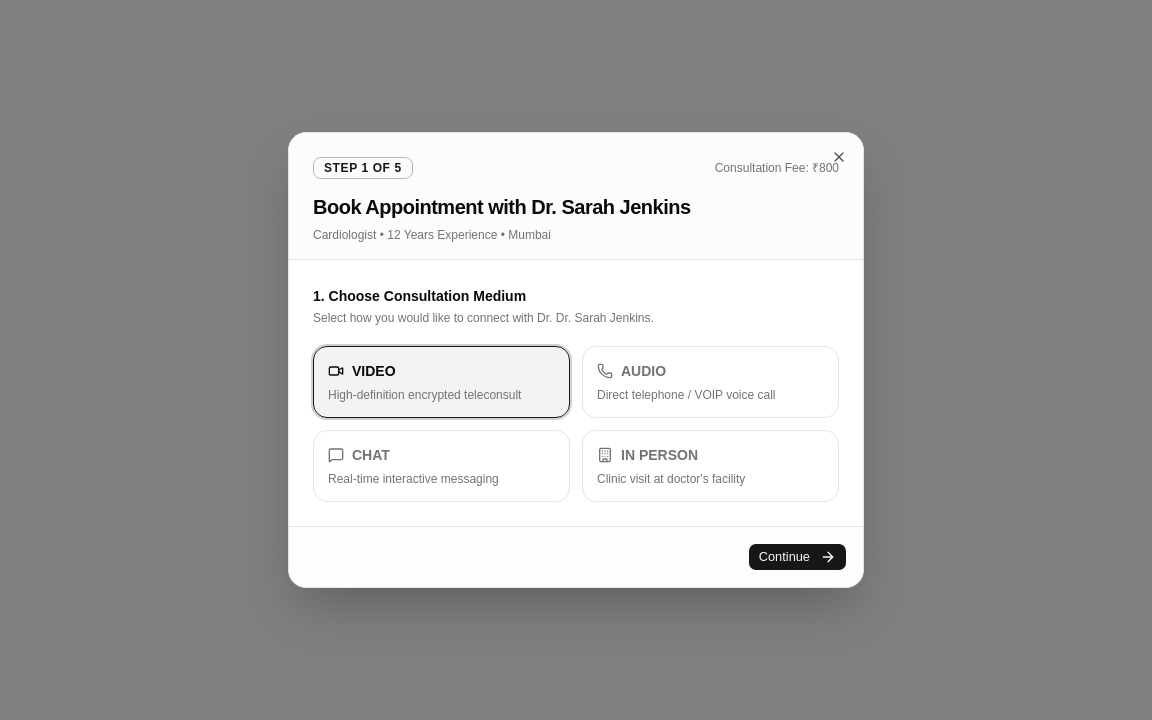
Test: Milestone 13 — Task 13.3: Patient Portal Views › Booking Wizard (BookingModal) › 7. dismisses Razorpay modal safely without marking appointment confirmed
The image size is (1152, 720).
// Advance to step 3 and reserve
Click the button "Continue": [797, 557] box x1=748 y1=543 x2=847 y2=571
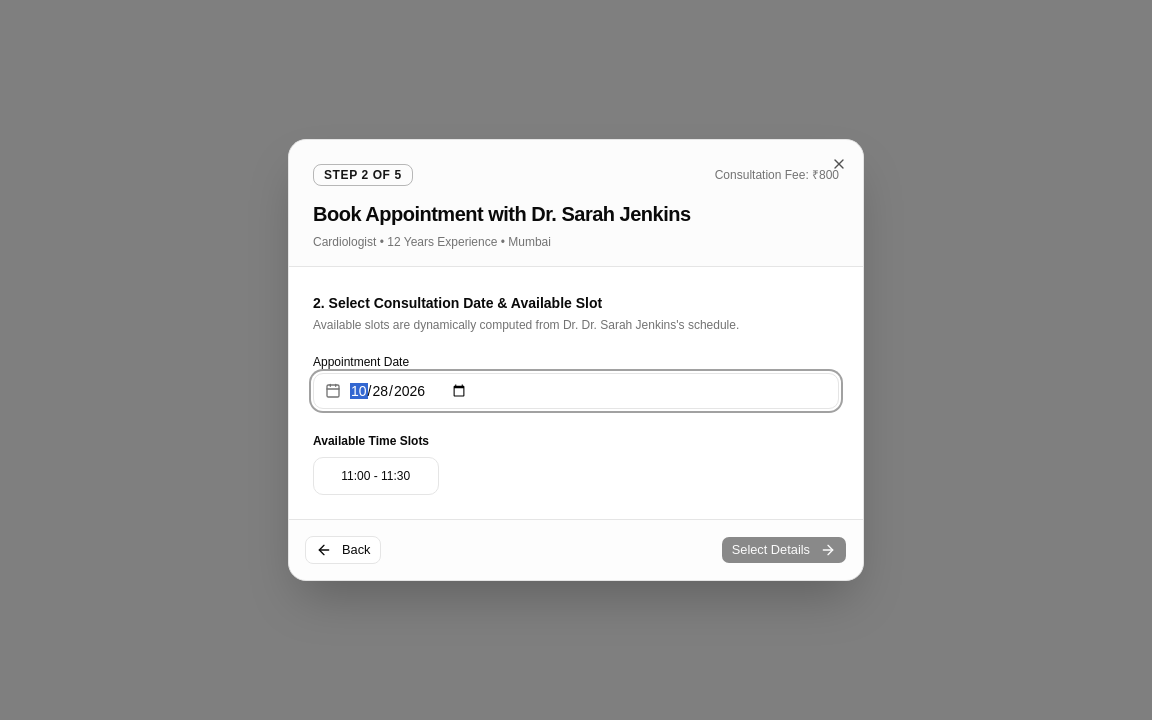
expect the button "11:00 - 11:30" is shown: met
Click the button "11:00 - 11:30": [376, 476] box x1=313 y1=457 x2=438 y2=495
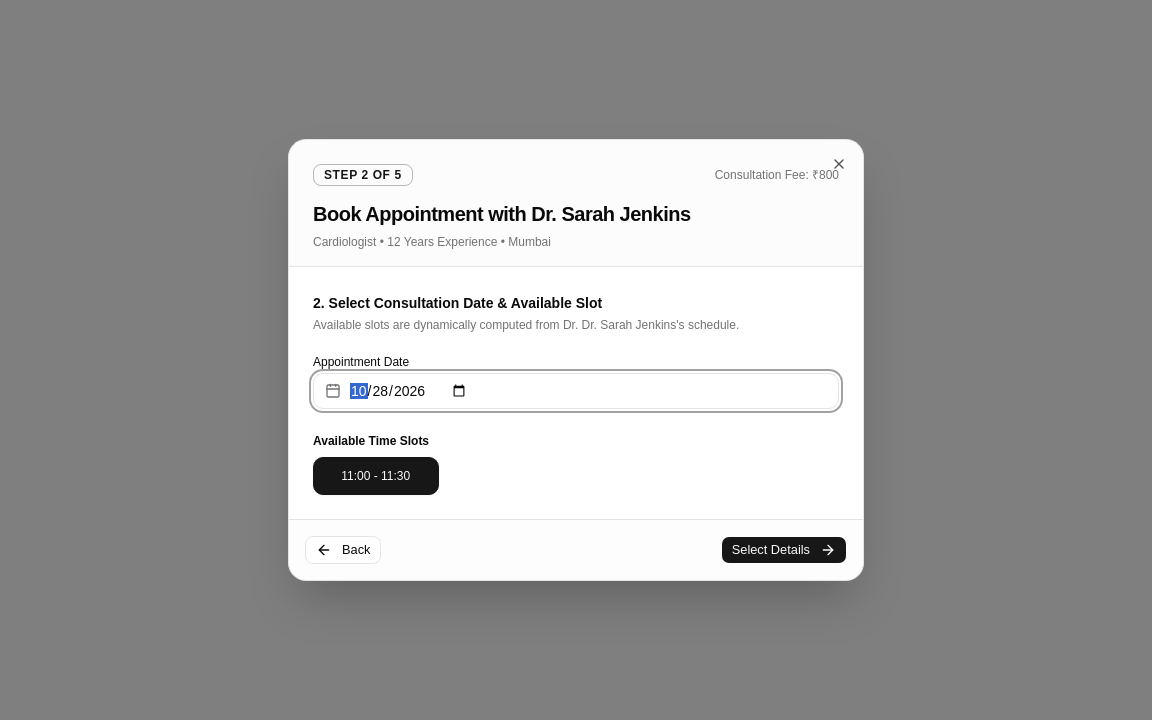
Click the button with test id "step2-continue-button": [784, 550] box x1=721 y1=536 x2=847 y2=564
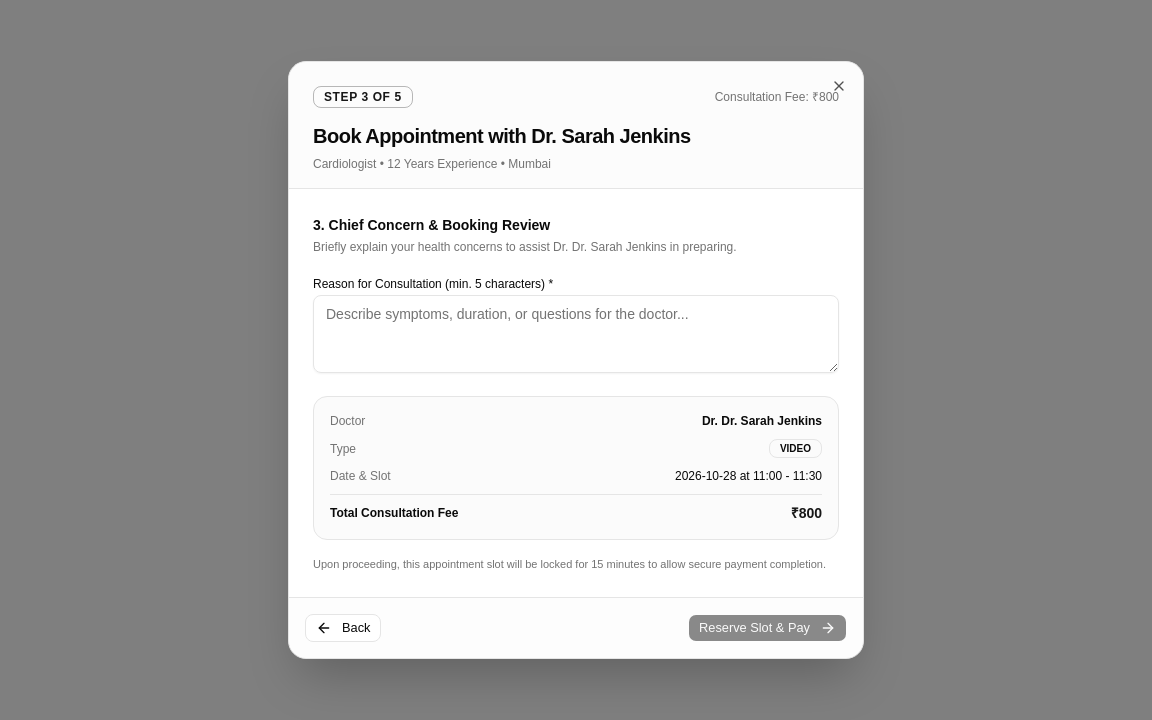
expect the text box labelled "Reason for Consultation (min. 5 characters) *" is shown: met
In the text box labelled "Reason for Consultation (min. 5 characters) *": [576, 334] box x1=313 y1=295 x2=839 y2=373, type "Cardiac review session"
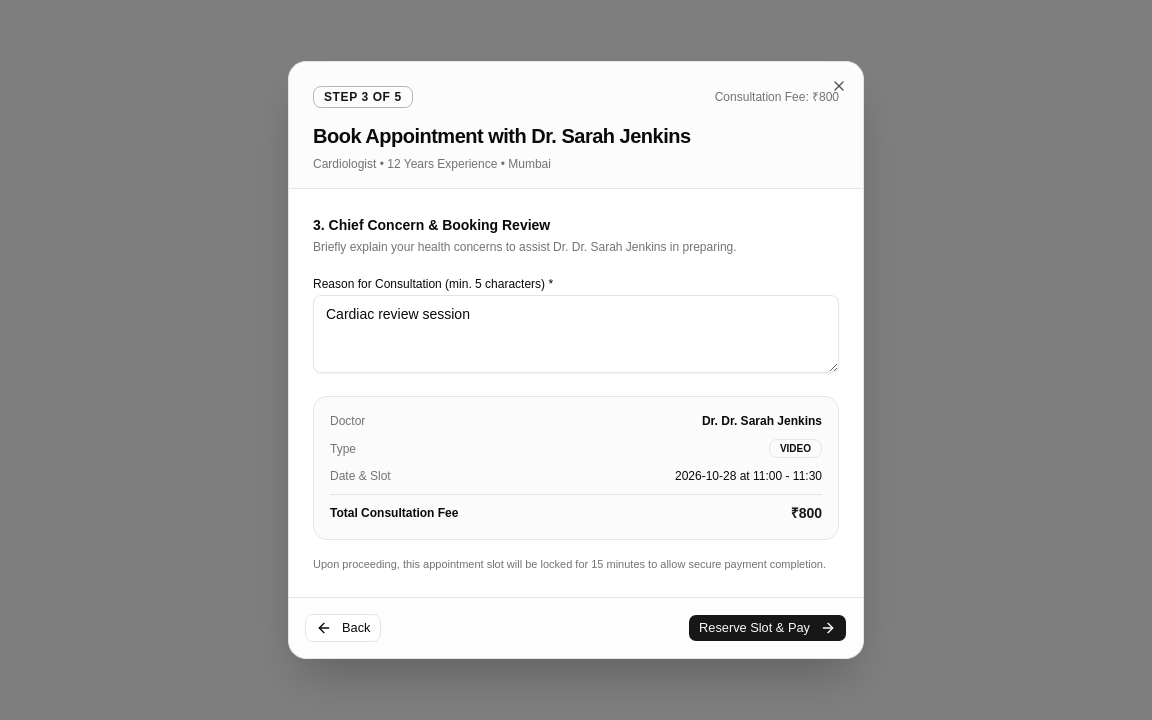
Click the button with test id "reserve-slot-button": [768, 628] box x1=688 y1=614 x2=847 y2=642
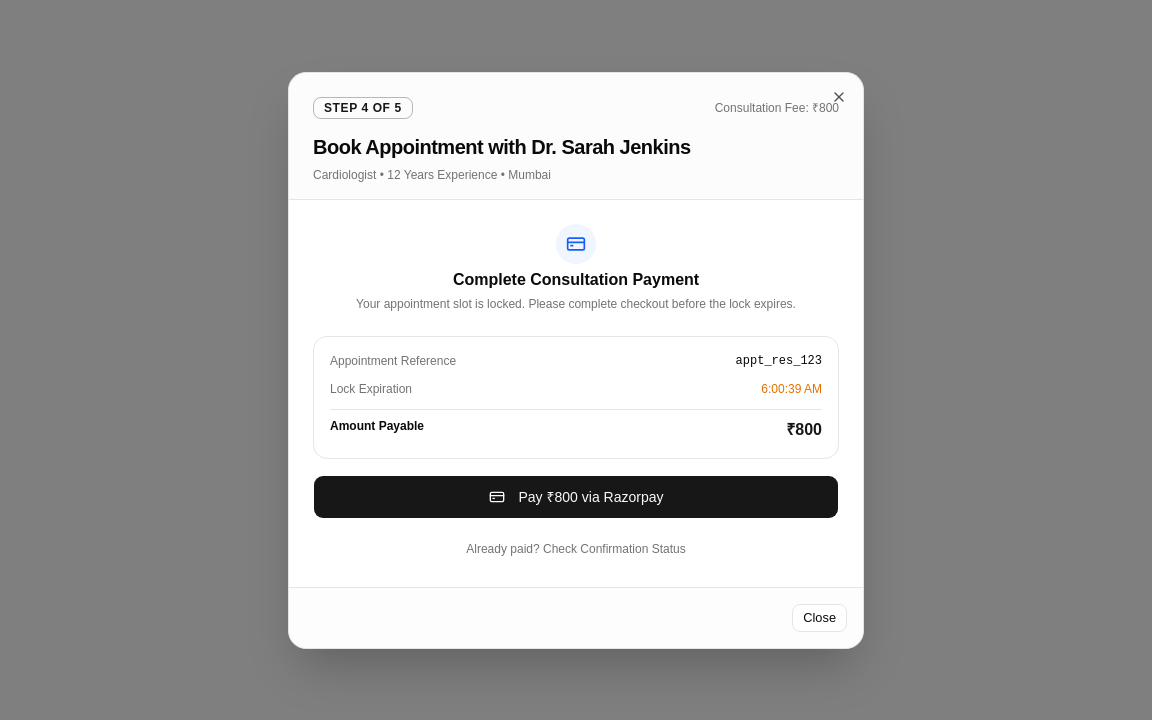
expect the button with test id "pay-now-button" is shown: met
// Click pay now
Click the button with test id "pay-now-button": [576, 496] box x1=313 y1=474 x2=839 y2=518
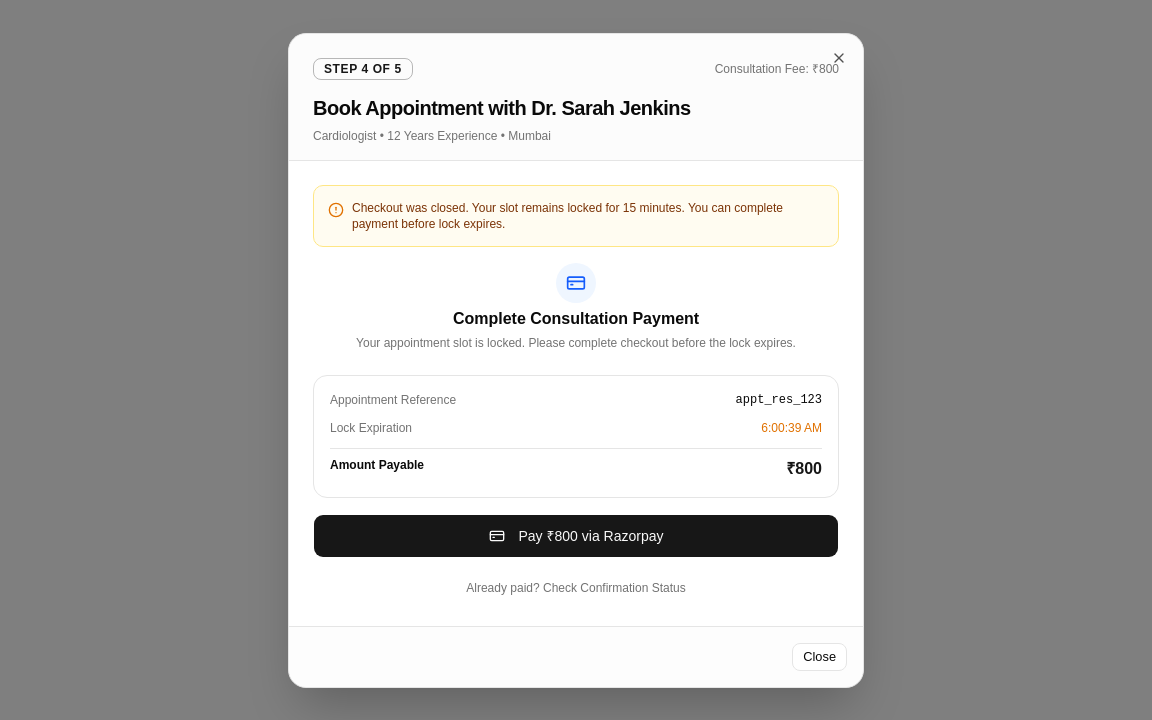
expect the text "Checkout was closed. Your slot remains locked for 15 minutes" is shown: met, box x1=352 y1=200 x2=783 y2=230
